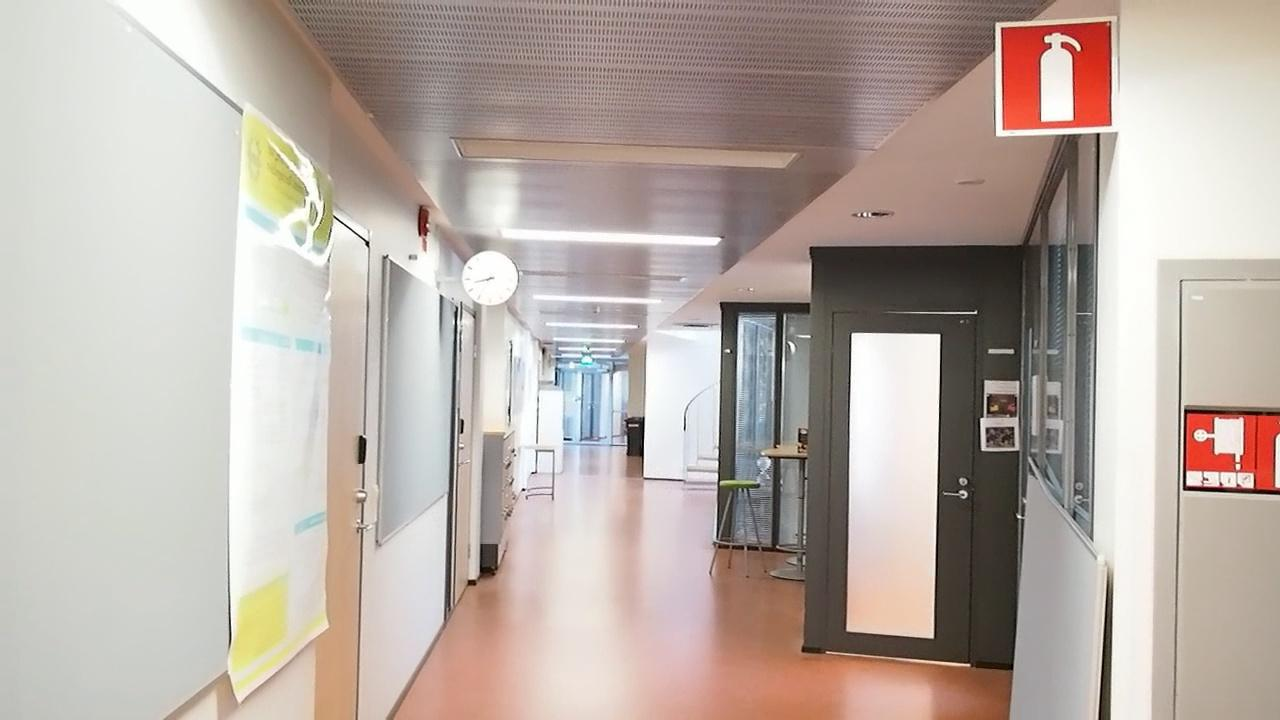clock: (459, 253, 520, 305)
fireextinguisher: (1002, 21, 1114, 131)
